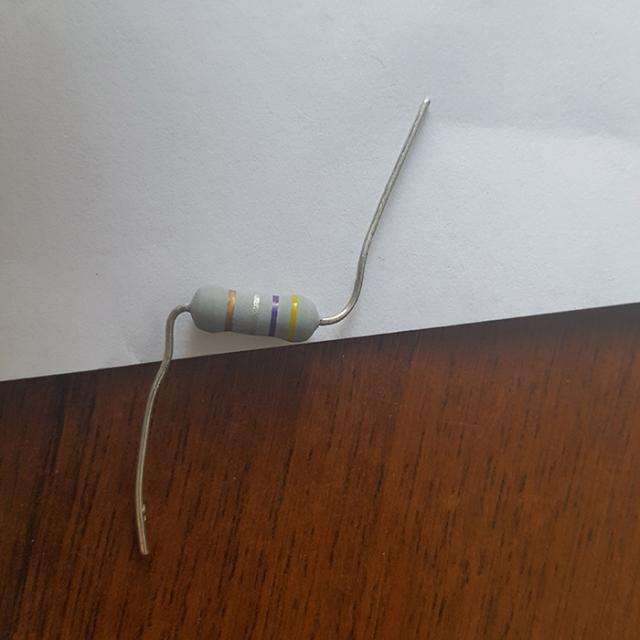Resistor Carbon-Film: (181, 283, 329, 344)
